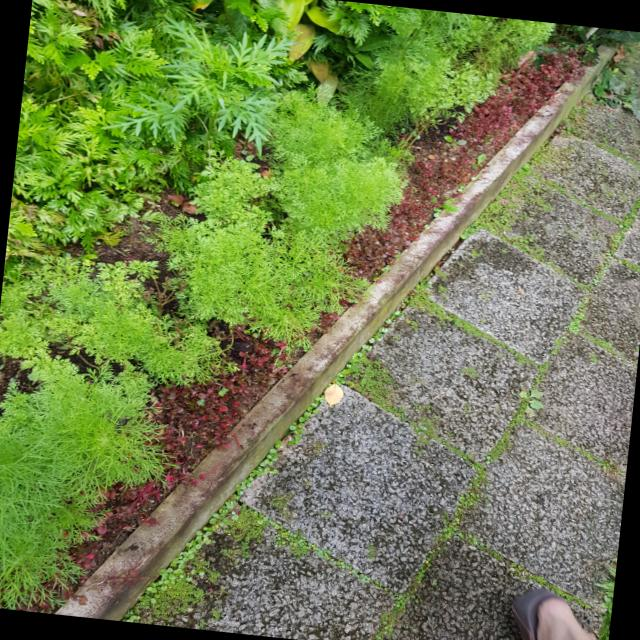Dill: (0, 346, 159, 504), (174, 217, 346, 331), (266, 106, 398, 221)
